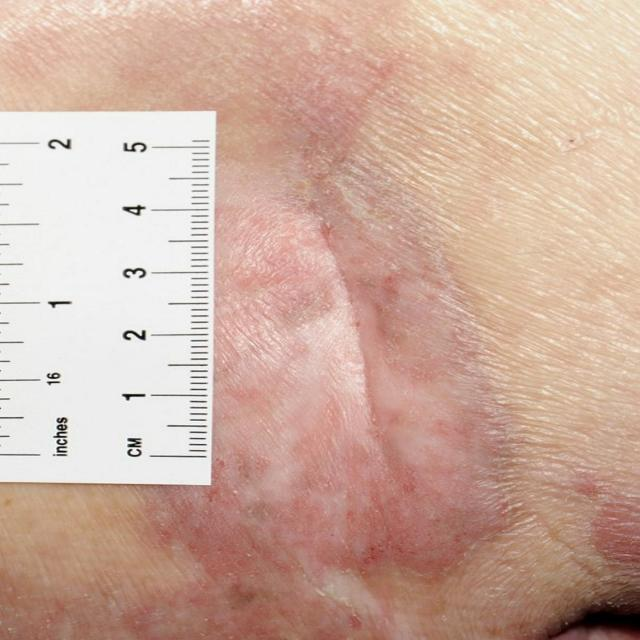wound: (239, 93, 500, 565)
